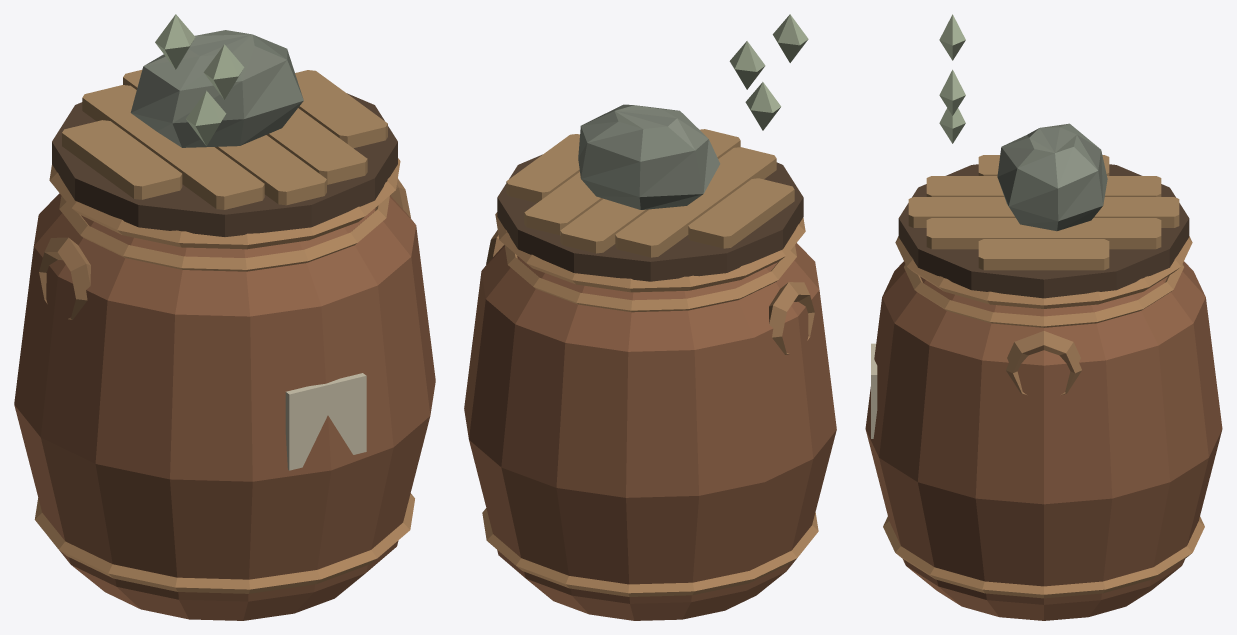
The model's file is pickle_jar.glb.
3 renders of one model, left to right at view 1: azimuth 30°, elevation 25°; view 2: azimuth 150°, elevation 25°; view 3: azimuth 270°, elevation 25°, orthographic. The views are drawn at different scales.
Visible parts, largest first — view 1: geometry, working; view 2: geometry, working; view 3: geometry, working.
Part boxes in pixels (box(x1,y1,x2,y2)): geometry: box(14, 30, 435, 620); working: box(155, 14, 244, 145); geometry: box(464, 104, 836, 620); working: box(729, 14, 808, 130); geometry: box(865, 123, 1222, 620); working: box(939, 14, 965, 143).
Bounding box in the file's own units: 0.86 × 1.37 × 0.86.
